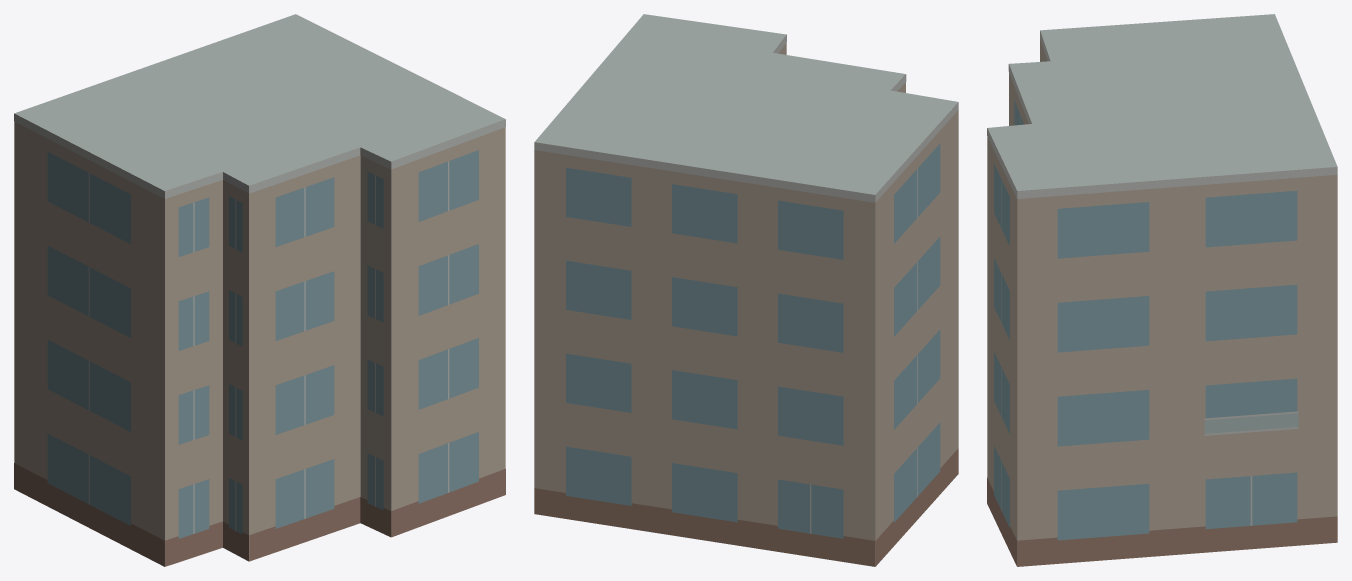
Rendered from survey-upis-32784536.glb.
3 views of the same model, side by side, from view 1: azimuth 30°, elevation 25°; view 2: azimuth 150°, elevation 25°; view 3: azimuth 270°, elevation 25° (orthographic).
Parts seen in each view (by area): view 1: survey-upis-32784536.tmp; view 2: survey-upis-32784536.tmp; view 3: survey-upis-32784536.tmp.
Part boxes in pixels (x1=…): survey-upis-32784536.tmp: x1=14, y1=14, x2=505, y2=566; survey-upis-32784536.tmp: x1=534, y1=14, x2=958, y2=566; survey-upis-32784536.tmp: x1=987, y1=14, x2=1337, y2=566.
Bounding box in the file's own units: 11.73 × 11.6 × 9.81.
